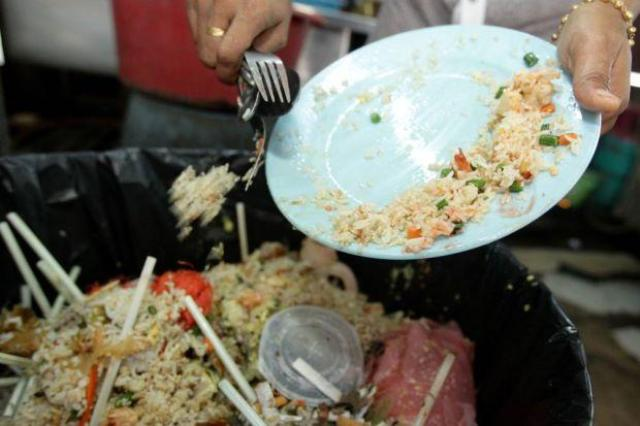Garbage: (0, 204, 475, 426), (334, 68, 579, 252)
Plastic: (259, 306, 363, 406)
Plastic_Bag: (365, 319, 474, 426)
Plastic_Straw: (185, 295, 256, 403), (414, 352, 455, 426), (120, 256, 156, 339), (119, 256, 154, 339), (291, 357, 343, 403), (219, 379, 266, 426), (89, 357, 121, 426), (255, 381, 279, 426), (235, 203, 249, 262)
